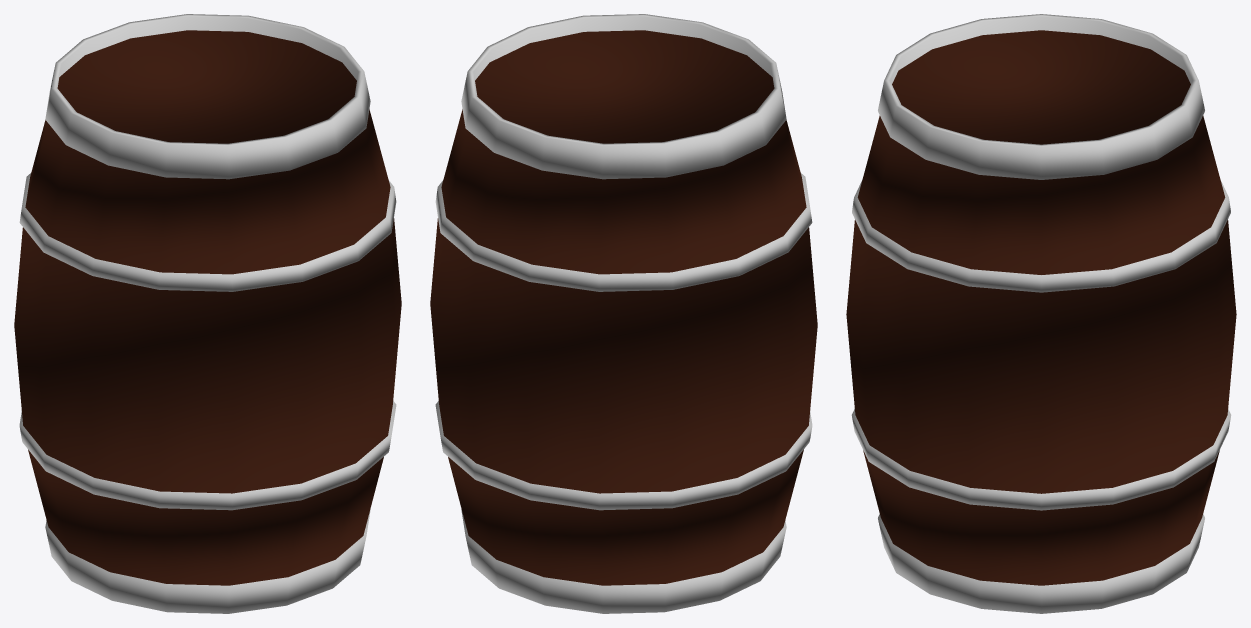
Rendered from Barrel.fbx.
3 renders of one model, left to right at view 1: azimuth 30°, elevation 25°; view 2: azimuth 150°, elevation 25°; view 3: azimuth 270°, elevation 25°, orthographic.
Parts seen in each view (by area): view 1: Barrel_low (×3); view 2: Barrel_low (×3); view 3: Barrel_low (×3).
Part boxes in pixels (left/top/right/bottom): Barrel_low (×3): left=14, top=14, right=401, bottom=613; Barrel_low (×3): left=430, top=14, right=817, bottom=613; Barrel_low (×3): left=846, top=14, right=1236, bottom=613.
Bounding box in the file's own units: 243 × 321 × 243.
